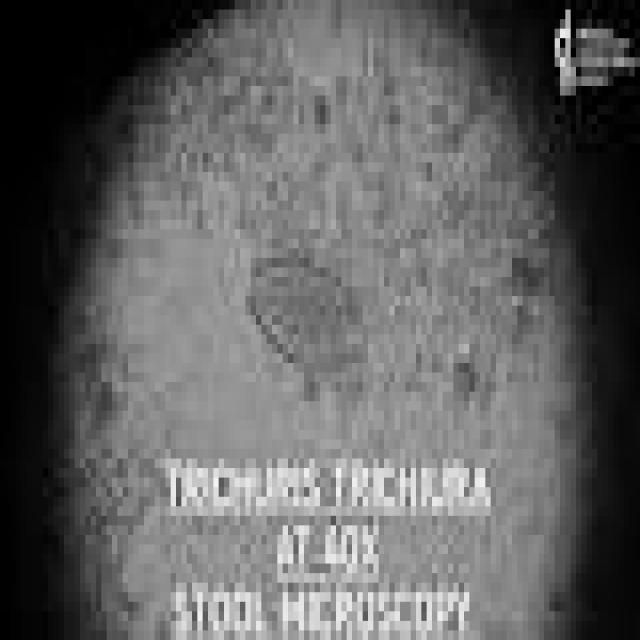Trichuris Trichiura: (240, 248, 368, 382)
